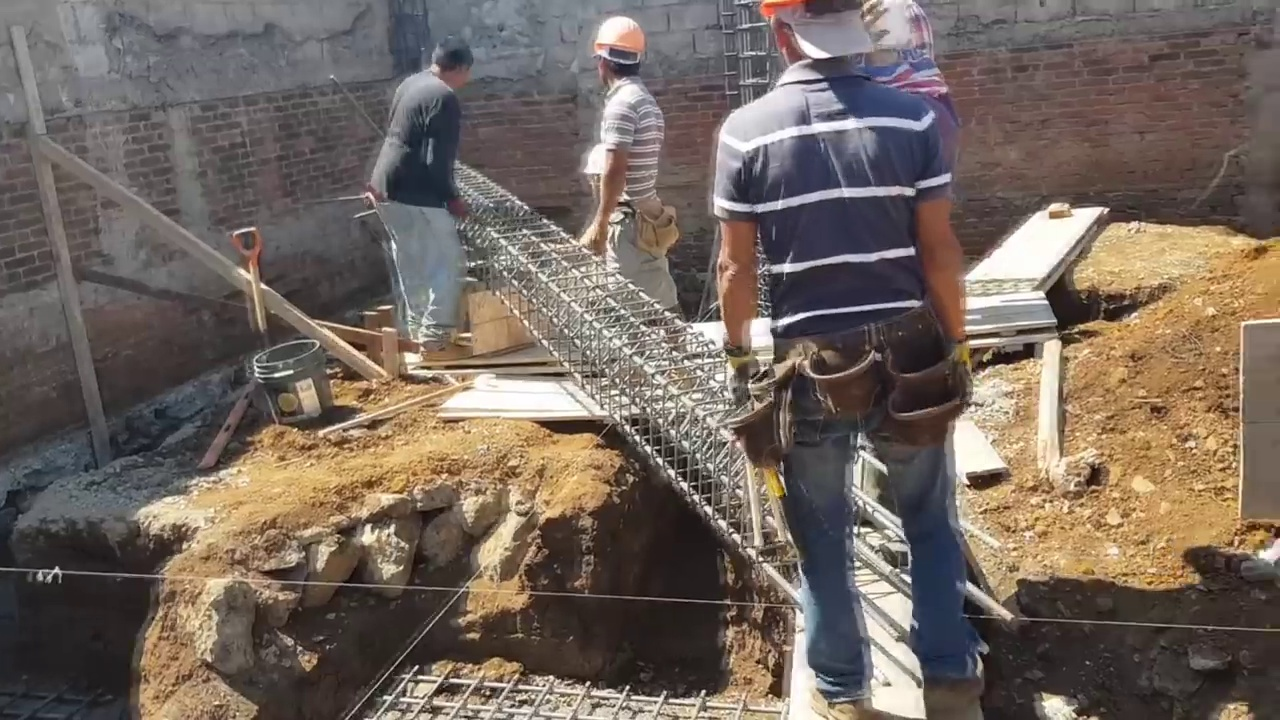helmet: (590, 17, 645, 65)
helmet-off: (429, 34, 475, 84)
helmet-on: (767, 0, 871, 72), (858, 0, 939, 82), (589, 18, 646, 86)
person: (715, 0, 1001, 720), (574, 7, 684, 323), (364, 35, 474, 348)
